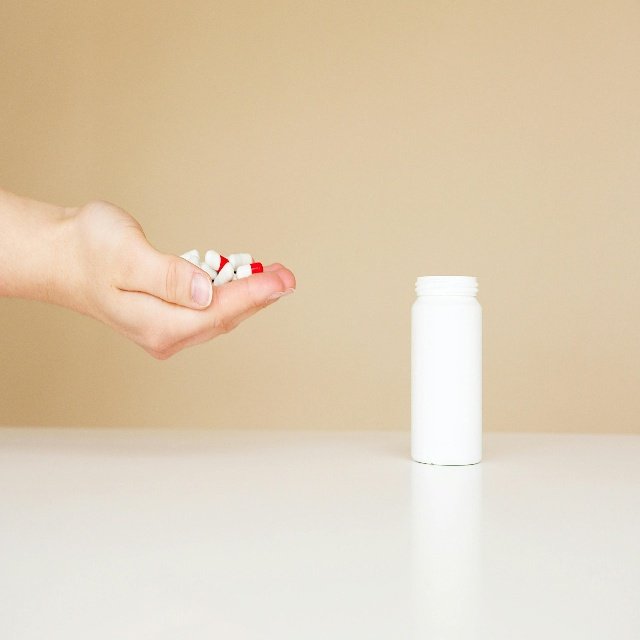Sin_guantes: (74, 183, 297, 360)
